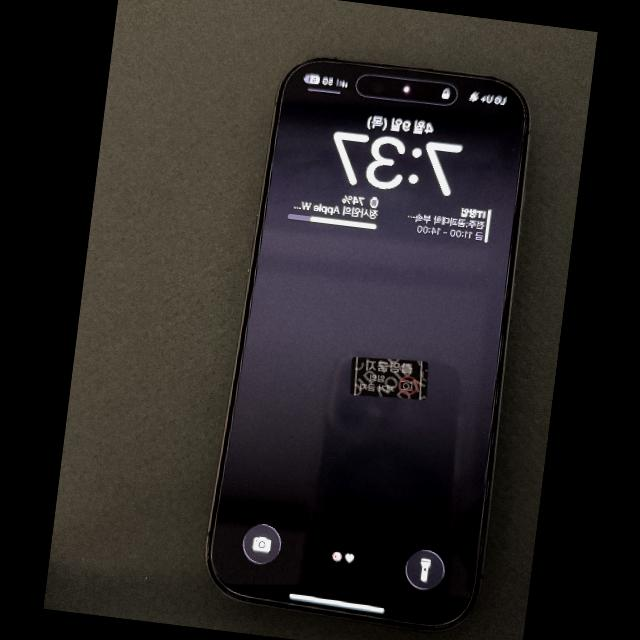lens: (372, 82, 383, 92)
phone: (205, 60, 531, 632)
sticker: (350, 357, 428, 400)
